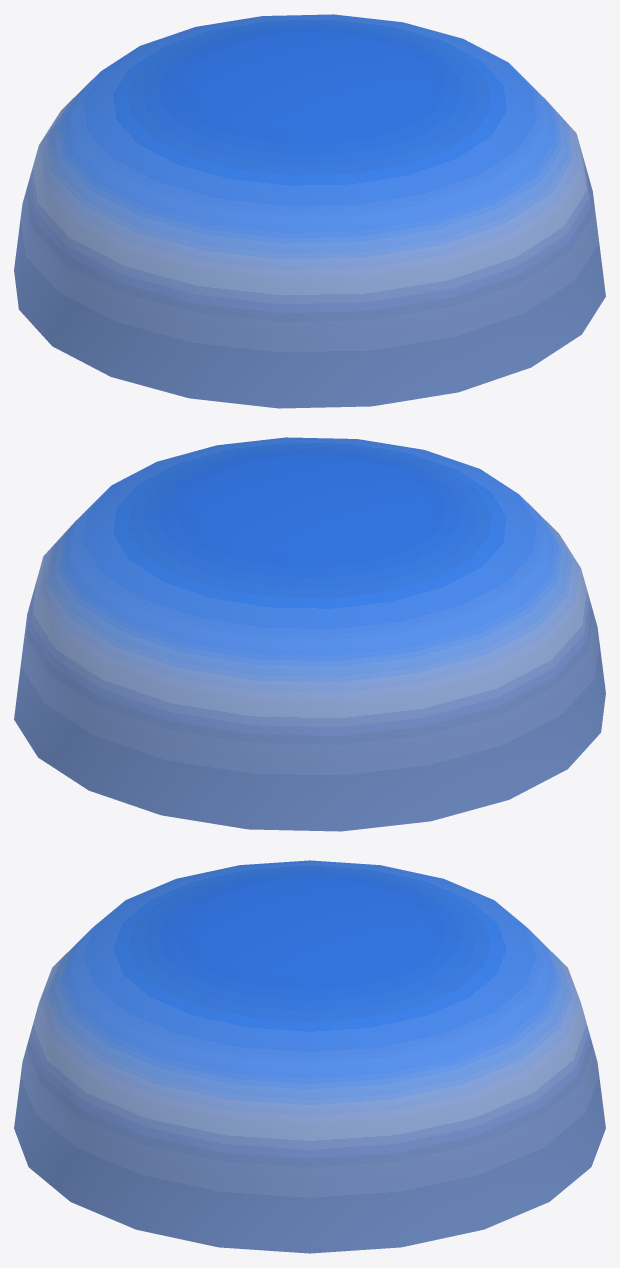
File: stage-niag-sky.glb
The picture shows the model from 3 angles, top to bottom: view 1: azimuth 30°, elevation 25°; view 2: azimuth 150°, elevation 25°; view 3: azimuth 270°, elevation 25°; orthographic projection.
Visible parts, largest first — view 1: sky; view 2: sky; view 3: sky.
Part boxes in pixels (bbox=[...]): sky: bbox=[14, 14, 605, 408]; sky: bbox=[14, 437, 605, 831]; sky: bbox=[14, 860, 605, 1253].
Size of the model in its own units: 3660 by 1428 by 3660.
Materials: 3 (3 with a texture image).
